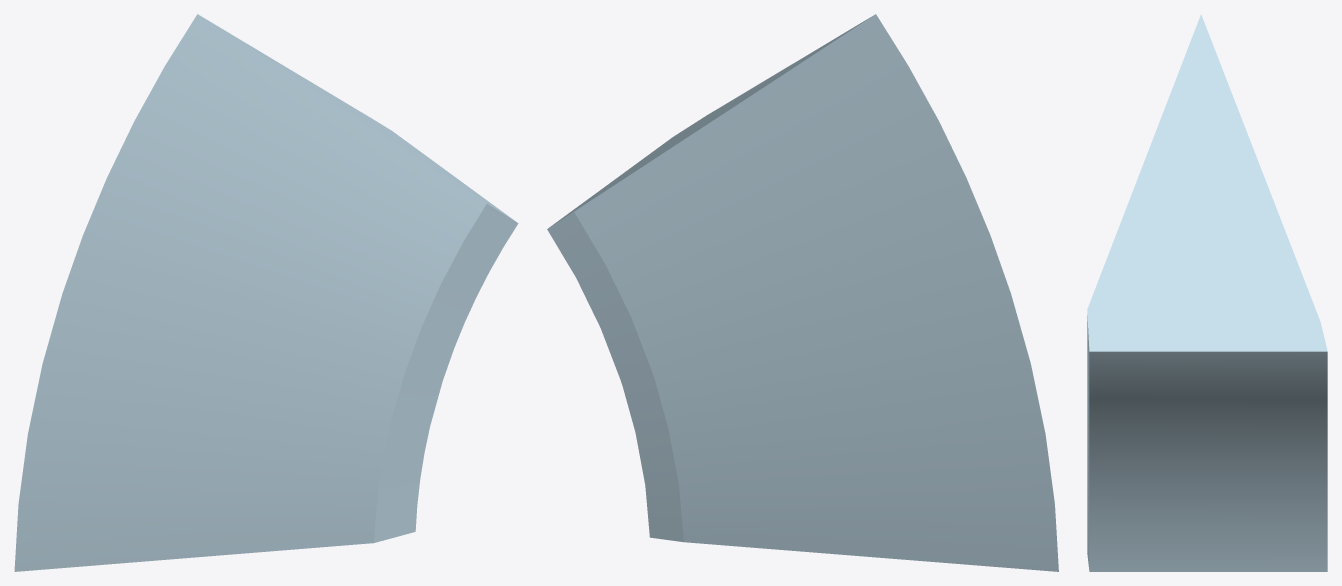
File: Sub_6_Cell_1_1.gltf
3 renders of one model, left to right at view 1: azimuth 30°, elevation 25°; view 2: azimuth 150°, elevation 25°; view 3: azimuth 270°, elevation 25°, orthographic. The views are drawn at different scales.
Parts seen in each view (by area): view 1: Sub_6_Cell_1_1; view 2: Sub_6_Cell_1_1; view 3: Sub_6_Cell_1_1.
Boxes of the visible parts, box(x1,y1,x2,y2) form: Sub_6_Cell_1_1: box(14, 14, 518, 571); Sub_6_Cell_1_1: box(547, 14, 1058, 571); Sub_6_Cell_1_1: box(1087, 14, 1327, 571).
Size of the model in its own units: 0.0744 by 0.082 by 0.0369.
